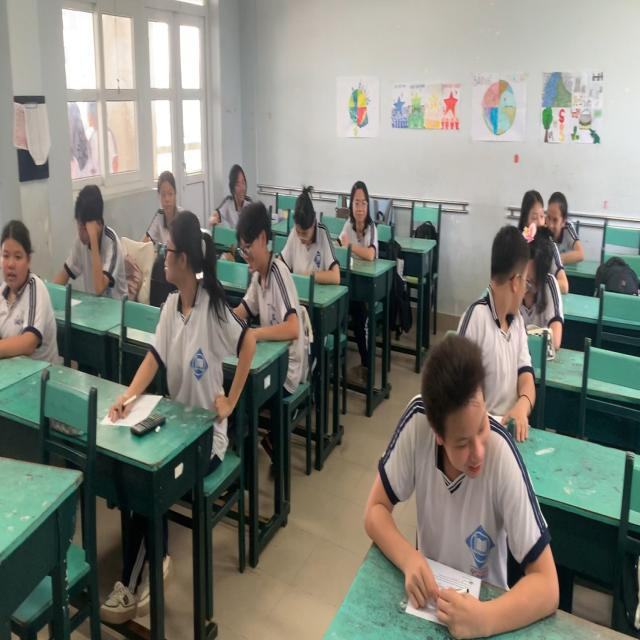cheating: (161, 204, 237, 405), (470, 232, 540, 433)
not_cheating: (391, 329, 530, 595), (233, 195, 295, 346), (0, 215, 50, 354), (58, 188, 122, 291), (279, 184, 338, 287), (520, 184, 586, 266), (334, 170, 380, 270), (147, 160, 186, 232), (217, 163, 252, 222)
